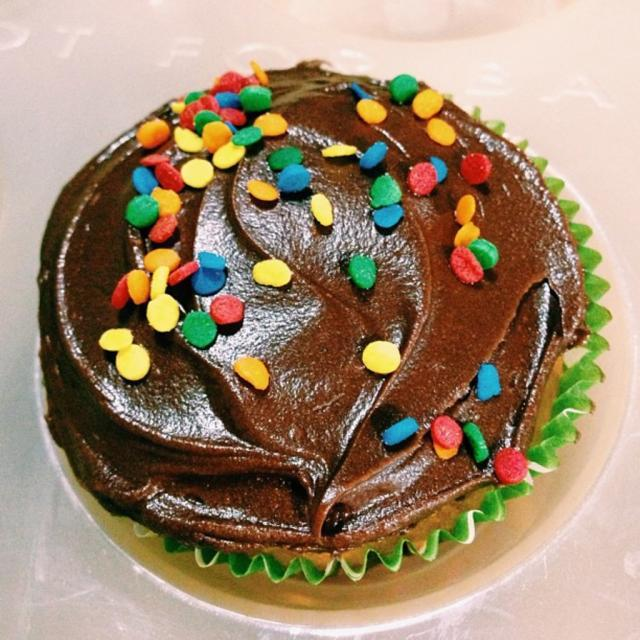Muffin: (40, 61, 613, 588)
